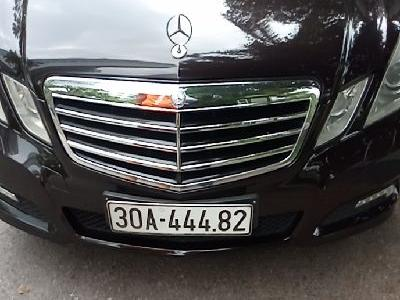car: (106, 202, 254, 238)
